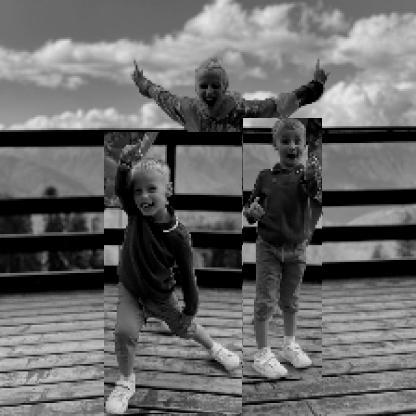child: (105, 133, 244, 415), (244, 119, 324, 381)
